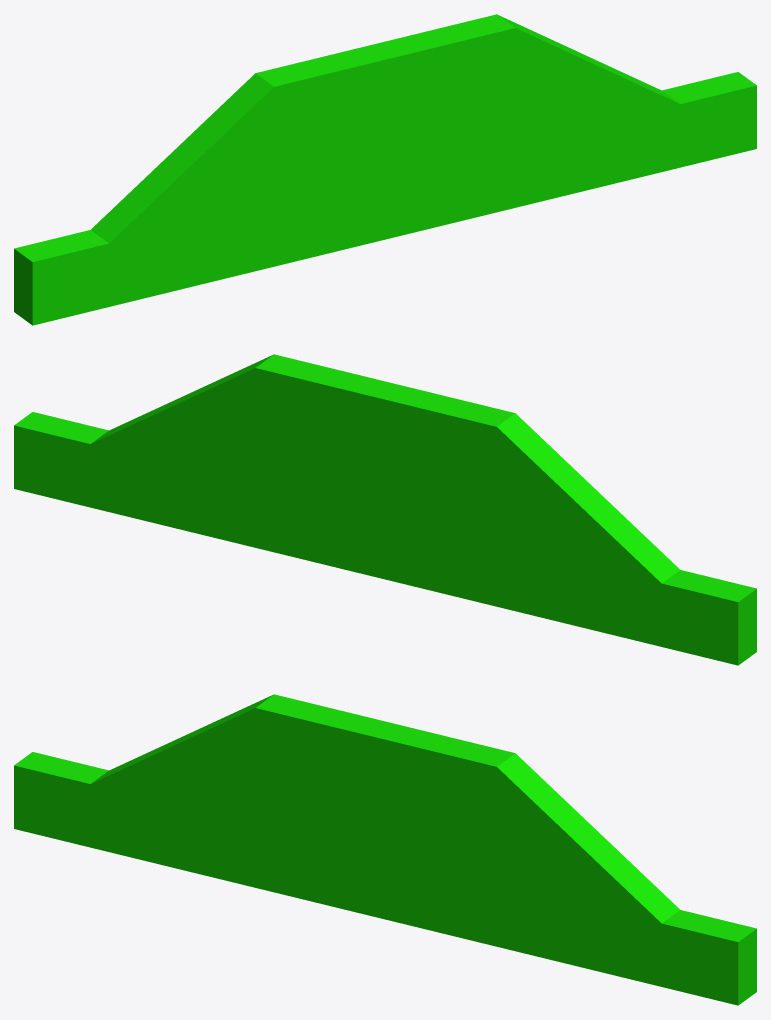
The model's file is sm_wall_medium_HalfSideDip_collider.fbx.
3 renders of one model, top to bottom at view 1: azimuth 30°, elevation 25°; view 2: azimuth 150°, elevation 25°; view 3: azimuth 330°, elevation 25°, orthographic.
Visible parts, largest first — view 1: Cube.006; view 2: Cube.006; view 3: Cube.006.
Boxes of the visible parts, x1=… form: Cube.006: x1=14, y1=14, x2=756, y2=325; Cube.006: x1=14, y1=354, x2=756, y2=665; Cube.006: x1=14, y1=694, x2=756, y2=1005.
Bounding box in the file's own units: 11.38 × 2.7 × 0.5084.
